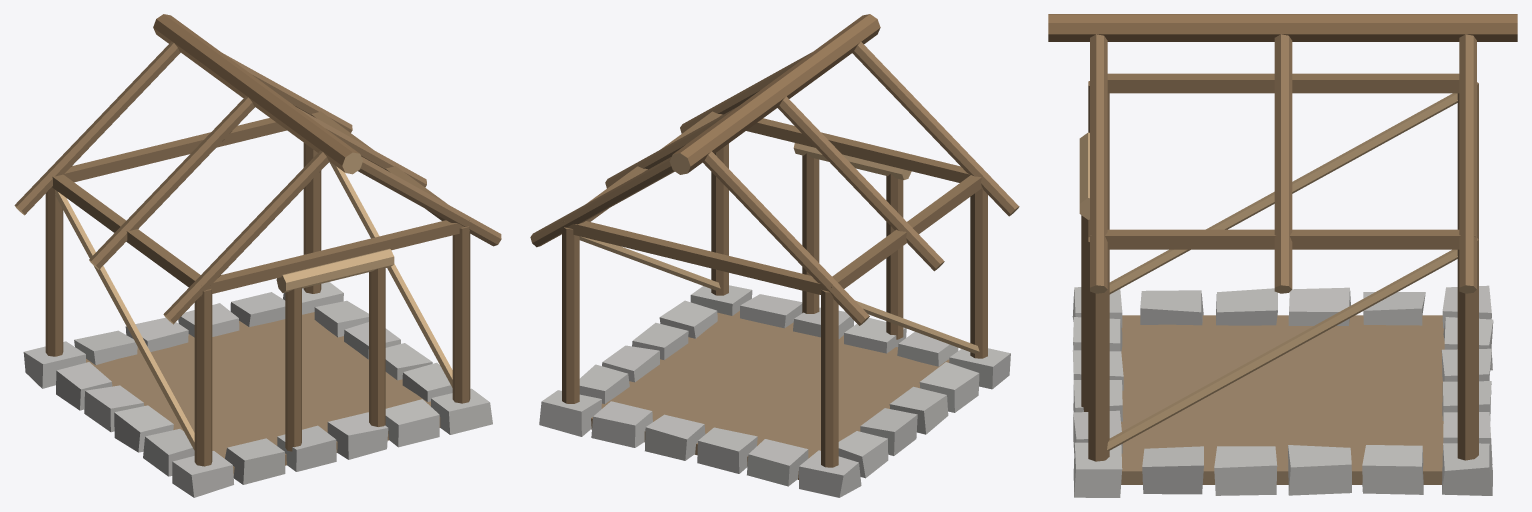
File: building_forge_frame.glb
The picture shows the model from 3 angles, left to right: view 1: azimuth 30°, elevation 25°; view 2: azimuth 150°, elevation 25°; view 3: azimuth 270°, elevation 25°; orthographic projection. The views are drawn at different scales.
Visible parts, largest first — view 1: building_forge_frame; view 2: building_forge_frame; view 3: building_forge_frame.
Boxes of the visible parts, x1,y1,x2,y2 form: building_forge_frame: (14, 14, 501, 497); building_forge_frame: (530, 14, 1019, 497); building_forge_frame: (1048, 14, 1517, 497).
Bounding box in the file's own units: 3.85 × 3.47 × 3.76.
